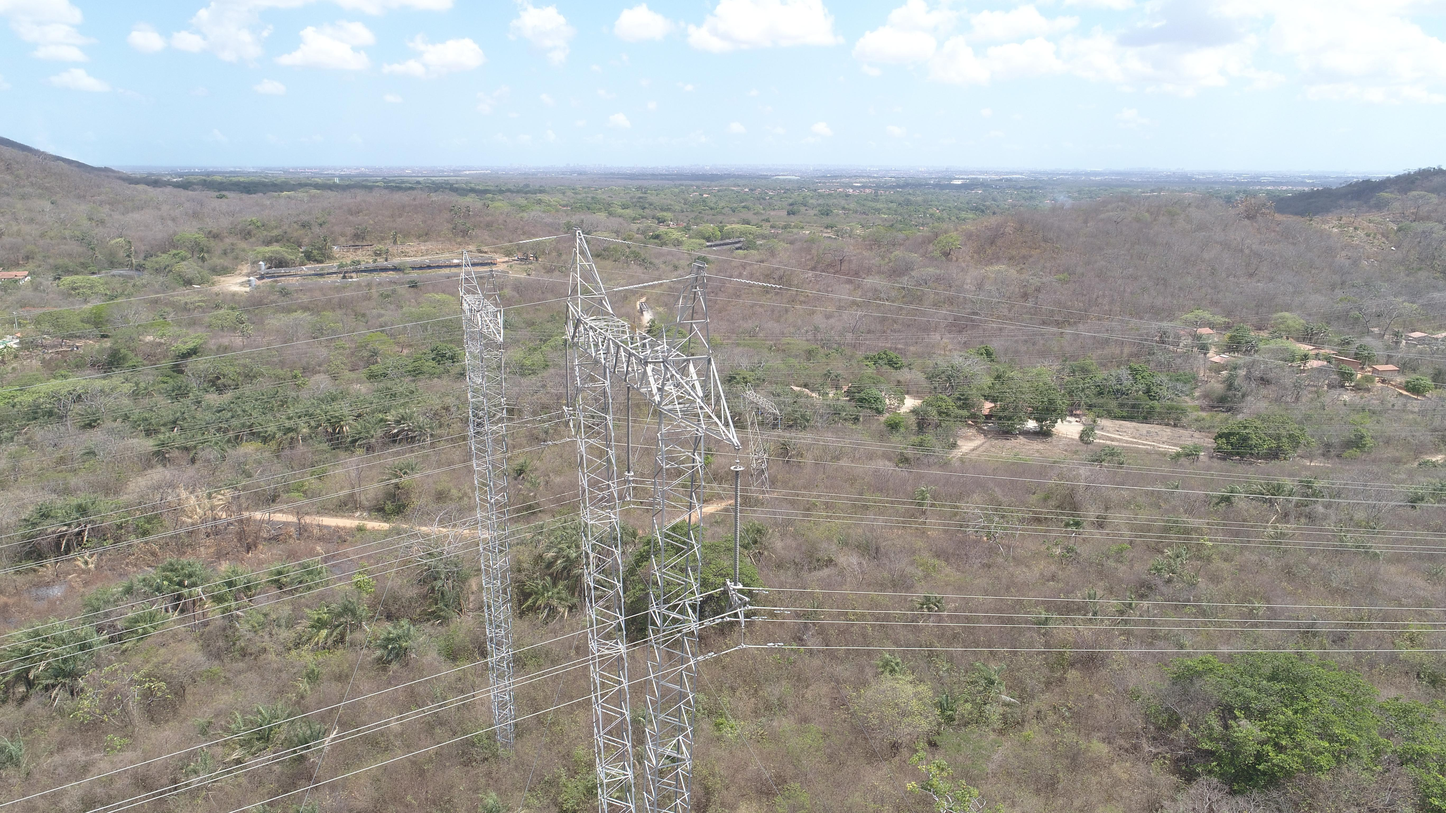power_tower: (562, 225, 752, 813), (454, 247, 521, 751), (738, 382, 782, 508)
